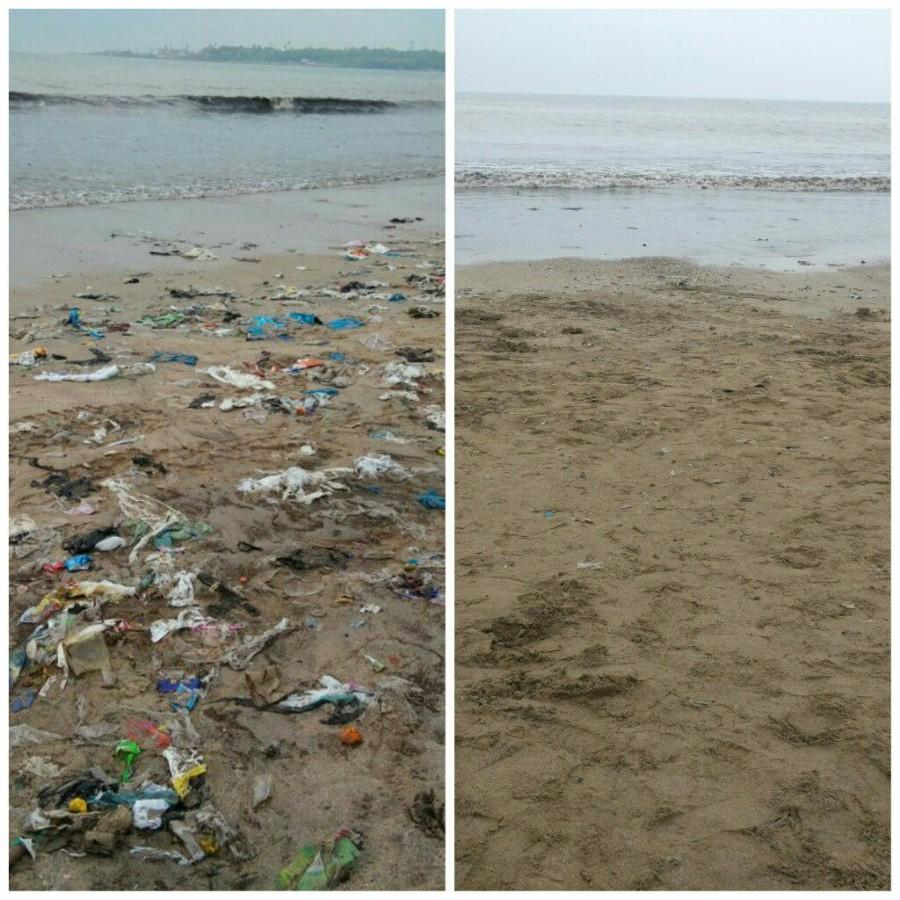BAD: (10, 283, 435, 878), (9, 473, 252, 879)
Good: (464, 268, 882, 879), (500, 445, 887, 888), (465, 217, 893, 545), (476, 234, 716, 813), (665, 112, 890, 723)
Household : General: (232, 454, 443, 767), (16, 303, 452, 443), (78, 269, 462, 403), (115, 464, 251, 760), (178, 234, 444, 345), (31, 760, 234, 881), (27, 556, 136, 689)
Household : Recyclable: (283, 823, 369, 893), (103, 733, 157, 787)
